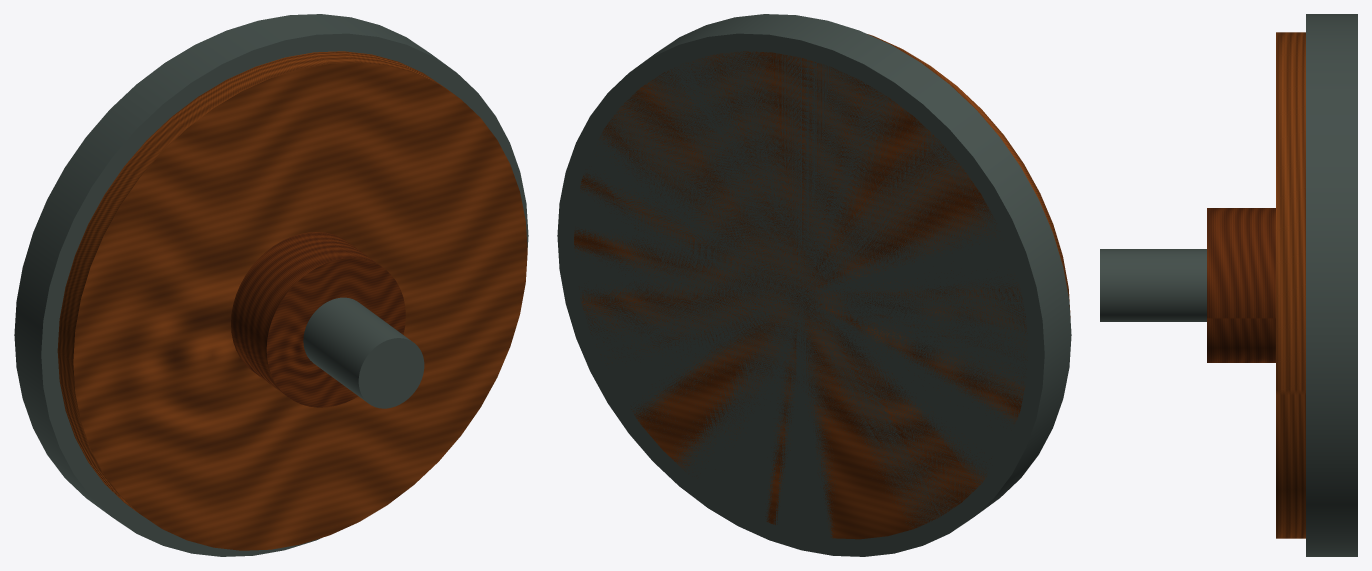
File: wheel.glb
3 views of the same model, side by side, from view 1: azimuth 30°, elevation 25°; view 2: azimuth 150°, elevation 25°; view 3: azimuth 270°, elevation 25° (orthographic). The views are drawn at different scales.
Bounding box in the file's own units: 2.52 × 2.52 × 1.2.
Materials: 3 (2 with a texture image).
